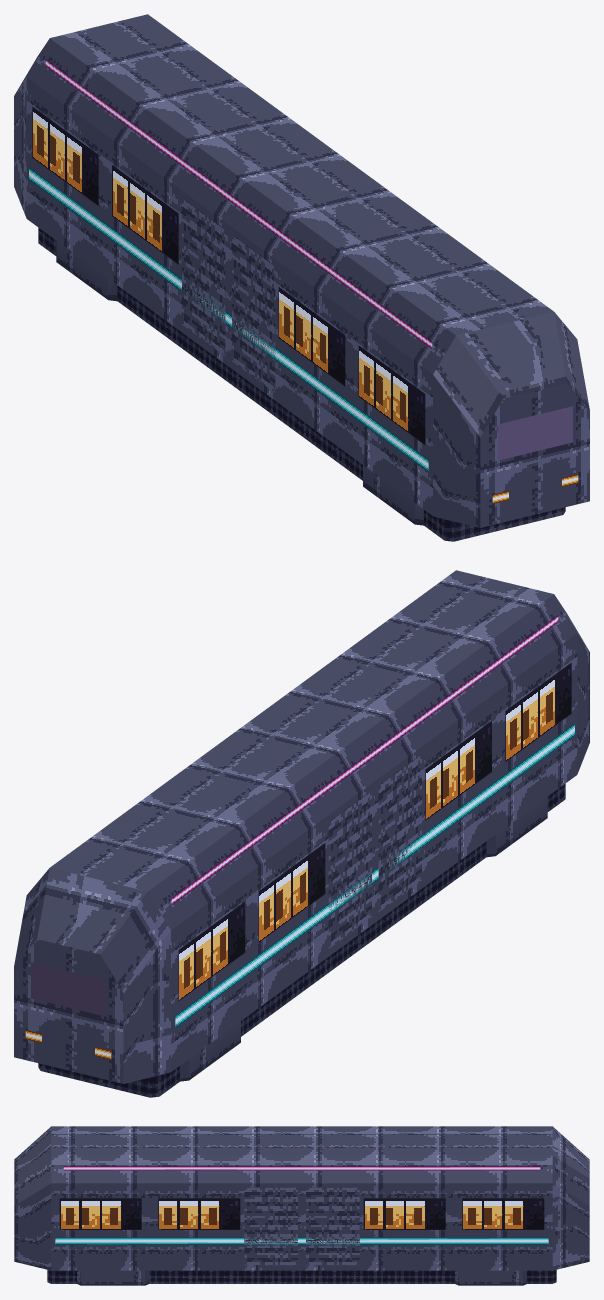
Rendered from cyroom.train__carriage.glb.
3 renders of one model, top to bottom at view 1: azimuth 30°, elevation 25°; view 2: azimuth 150°, elevation 25°; view 3: azimuth 270°, elevation 25°, orthographic. The views are drawn at different scales.
Visible parts, largest first — view 1: kit_body, kit_card_details; view 2: kit_body, kit_card_details; view 3: kit_body, kit_card_details.
Boxes of the visible parts, bbox=[...] form: kit_body: bbox=[14, 14, 589, 541]; kit_card_details: bbox=[29, 59, 578, 503]; kit_body: bbox=[14, 570, 589, 1097]; kit_card_details: bbox=[25, 615, 574, 1059]; kit_body: bbox=[14, 1126, 589, 1285]; kit_card_details: bbox=[55, 1166, 548, 1265].
Size of the model in its own units: 2.54 by 3.35 by 14.02.
7 materials, 6 textured.
